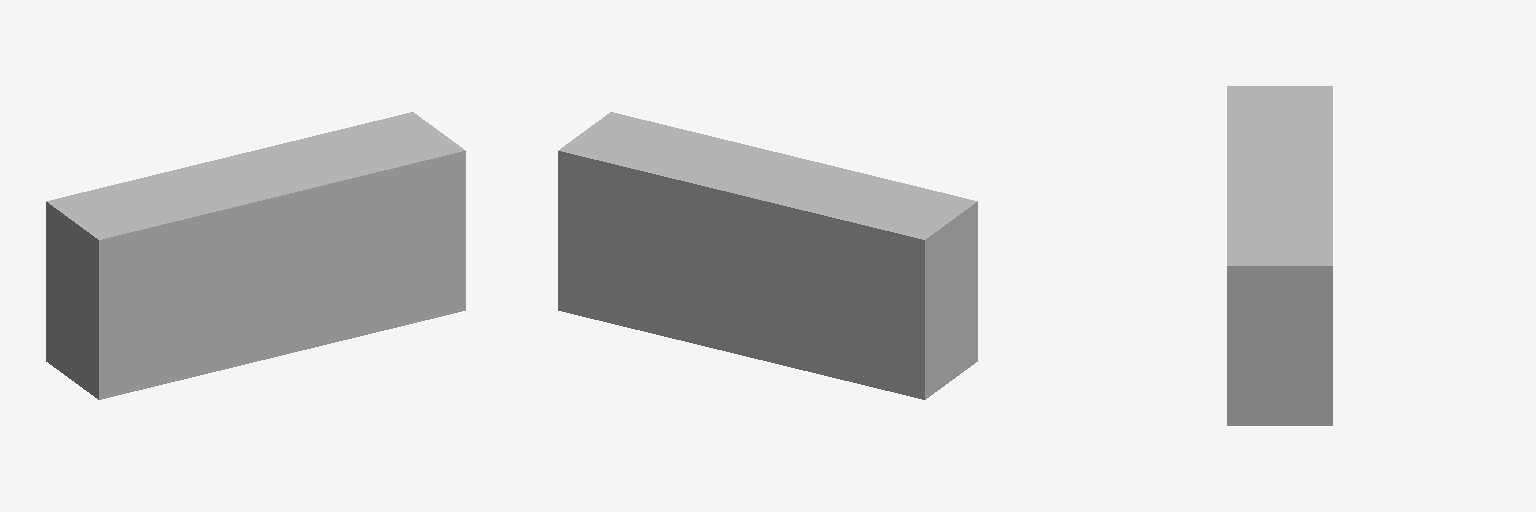
File: Hedge1.obj
The picture shows the model from 3 angles: view 1: azimuth 30°, elevation 25°; view 2: azimuth 150°, elevation 25°; view 3: azimuth 270°, elevation 25°; orthographic projection.
Visible parts, largest first — view 1: mergedBlocks; view 2: mergedBlocks; view 3: mergedBlocks.
Boxes of the visible parts, box(x1,y1,x2,y2) form: mergedBlocks: box(46, 112, 465, 399); mergedBlocks: box(558, 112, 977, 399); mergedBlocks: box(1227, 86, 1332, 425).
Size of the model in its own units: 0.96 by 0.4 by 0.24.